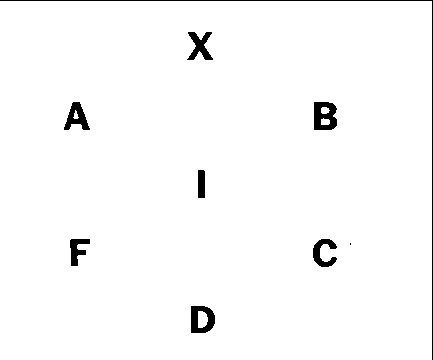I: (191, 166, 215, 206)
